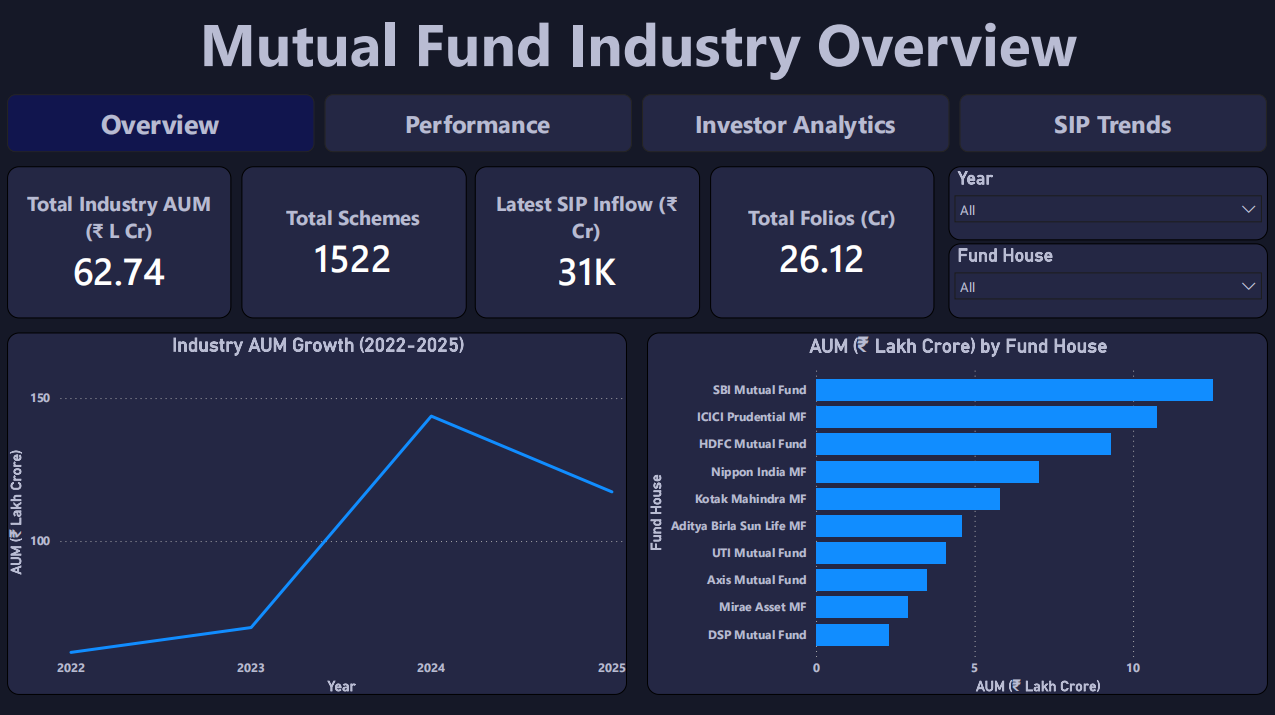

This screenshot's page, from the dashboard's own definition file:
{"tool":"powerbi","page":{"name":"Overview","canvas":[1280,720],"ordinal":0},"visuals":[{"type":"cardVisual","fields":{"Data":["public fact_aum.Total Schemes"]},"box":[244.2,168.1,224.5,152.1],"z":0},{"type":"cardVisual","fields":{"Data":["public fact_sip_industry.Latest SIP Inflow"]},"box":[477.3,168.1,224.5,152.1],"z":1000},{"type":"cardVisual","fields":{"Data":["public fact_folio_count.Total Folios"]},"box":[711.7,168.1,224.5,152.1],"z":2000},{"type":"lineChart","title":"Industry AUM Growth (2022-2025)","fields":{"Category":["public fact_aum.report_date.Variation.Date Hierarchy.Year","public fact_aum.report_date.Variation.Date Hierarchy.Quarter","public fact_aum.report_date.Variation.Date Hierarchy.Month","public fact_aum.report_date.Variation.Date Hierarchy.Day"],"Y":["Sum(public fact_aum.aum_lakh_crore)"]},"box":[9.8,333.7,619.6,362],"z":3000},{"type":"clusteredBarChart","fields":{"Category":["public fact_aum.fund_house"],"Y":["Sum(public fact_aum.aum_lakh_crore)"]},"box":[649.1,333.7,619.6,362],"z":4000},{"type":"textbox","box":[179.1,0,922.7,109.2],"z":5000},{"type":"pageNavigator","box":[9.8,95.7,1258.9,58.9],"z":6000},{"type":"slicer","fields":{"Values":["public fact_aum.Year"]},"box":[949.7,168.1,319,74],"z":7000},{"type":"slicer","fields":{"Values":["public fact_aum.fund_house"]},"box":[949.7,245.4,319,74.8],"z":8000},{"type":"cardVisual","fields":{"Data":["public fact_aum.Total Industry AUM"]},"box":[9.8,168.1,224.5,152.1],"z":9000}]}

Visuals, with their boxes in screenshot pixels (x1, y1, x2, y2), scaled from the page's 1280x720 canvas onto the 1275x715 screenshot:
cardVisual - public fact_aum.Total Schemes: <region>243, 167, 467, 318</region>
cardVisual - public fact_sip_industry.Latest SIP Inflow: <region>475, 167, 699, 318</region>
cardVisual - public fact_folio_count.Total Folios: <region>709, 167, 933, 318</region>
"Industry AUM Growth (2022-2025)" lineChart: <region>10, 331, 627, 691</region>
clusteredBarChart - public fact_aum.fund_house x Sum(public fact_aum.aum_lakh_crore): <region>647, 331, 1264, 691</region>
textbox: <region>178, 0, 1097, 108</region>
pageNavigator: <region>10, 95, 1264, 154</region>
slicer - public fact_aum.Year: <region>946, 167, 1264, 240</region>
slicer - public fact_aum.fund_house: <region>946, 244, 1264, 318</region>
cardVisual - public fact_aum.Total Industry AUM: <region>10, 167, 233, 318</region>
